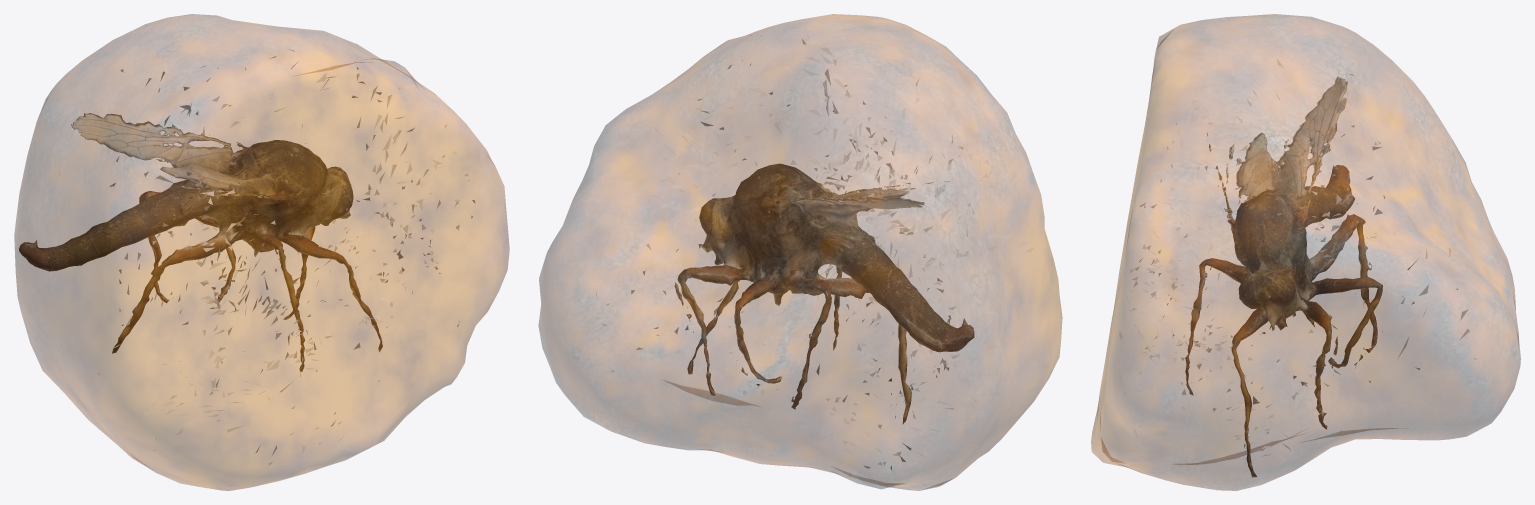
The model's file is mosquito-in-amber.glb.
3 views of the same model, side by side, from view 1: azimuth 30°, elevation 25°; view 2: azimuth 150°, elevation 25°; view 3: azimuth 270°, elevation 25° (orthographic). The views are drawn at different scales.
Parts seen in each view (by area): view 1: 5_amber_lr_PBR_0, 2_mosquito_lr_original.o_material_0_0, 6_eclats_eclats_0; view 2: 5_amber_lr_PBR_0, 2_mosquito_lr_original.o_material_0_0, 6_eclats_eclats_0; view 3: 5_amber_lr_PBR_0, 2_mosquito_lr_original.o_material_0_0, 6_eclats_eclats_0.
Boxes of the visible parts, bbox=[...] form: 5_amber_lr_PBR_0: bbox=[14, 14, 509, 490]; 2_mosquito_lr_original.o_material_0_0: bbox=[19, 113, 382, 371]; 6_eclats_eclats_0: bbox=[98, 49, 475, 465]; 5_amber_lr_PBR_0: bbox=[538, 14, 1062, 490]; 2_mosquito_lr_original.o_material_0_0: bbox=[674, 163, 974, 423]; 6_eclats_eclats_0: bbox=[596, 35, 1036, 470]; 5_amber_lr_PBR_0: bbox=[1091, 14, 1520, 490]; 2_mosquito_lr_original.o_material_0_0: bbox=[1185, 76, 1382, 477]; 6_eclats_eclats_0: bbox=[1109, 59, 1475, 456].
Size of the model in its own units: 0.0972 by 0.0997 by 0.0879.
Materials: 3 (2 with a texture image).
